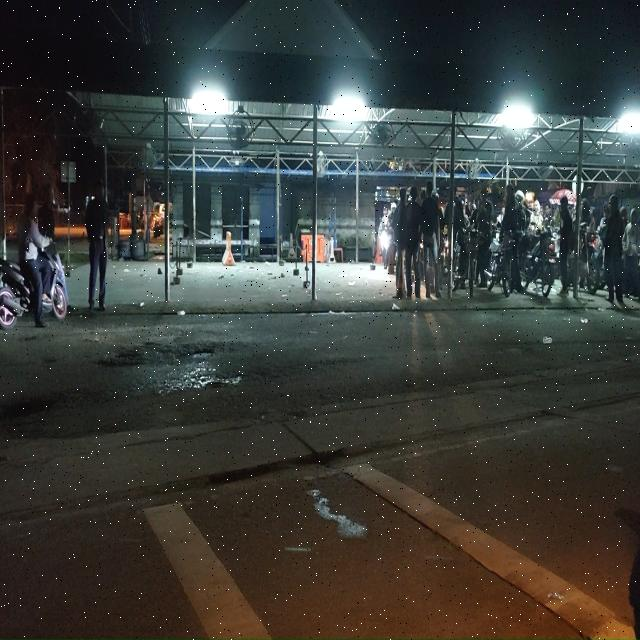Golongan II: (0, 251, 67, 329), (520, 229, 556, 297), (484, 227, 512, 297), (453, 227, 479, 297), (586, 230, 604, 294)
